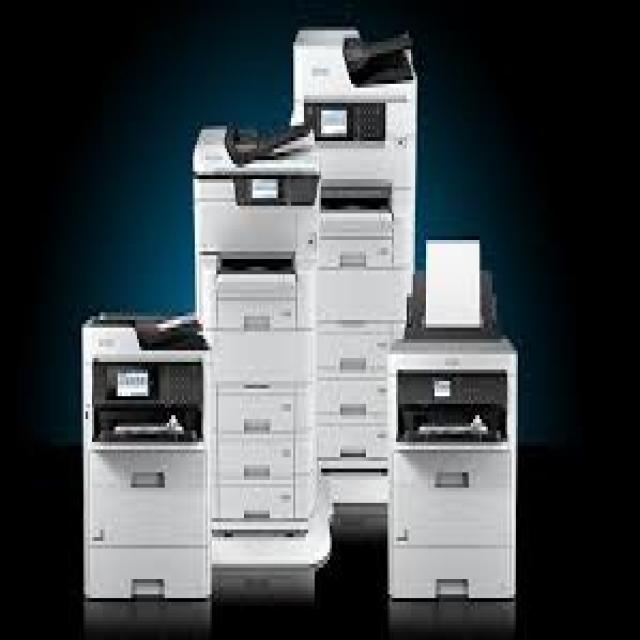printer: (292, 28, 414, 476), (194, 125, 313, 536), (386, 237, 517, 602), (80, 306, 210, 600)
